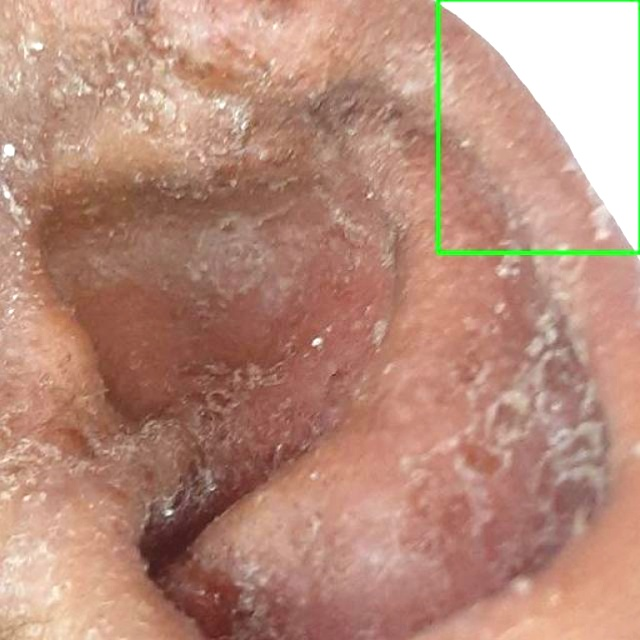Eczema: (438, 0, 639, 253)
